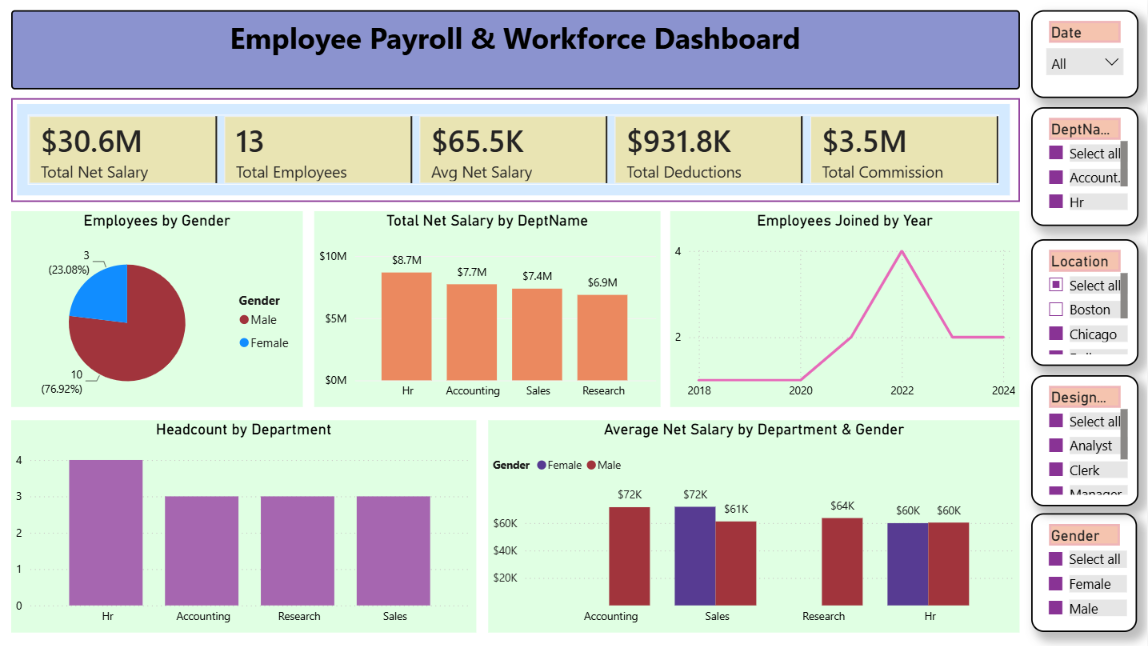

The page's visual inventory and layout, read from the dashboard file:
{"tool":"powerbi","page":{"name":"Workforce Insights","canvas":[1280,720],"ordinal":1},"visuals":[{"type":"cardVisual","fields":{"Data":["Fact Sales.Total Net Salary","Fact Sales.Total Employees","Fact Sales.Avg Net Salary","Fact Sales.Total Deductions","Fact Sales.Total Commission"]},"box":[17.9,109.6,1120.7,115.5],"z":0},{"type":"slicer","fields":{"Values":["Dim Calender.Date"]},"box":[1151.6,11.9,119.1,97.7],"z":1000},{"type":"slicer","fields":{"Values":["Dim Department.Location"]},"box":[1151.6,266.8,119.1,140.5],"z":2000},{"type":"slicer","fields":{"Values":["Dim Department.DeptName"]},"box":[1151.6,120.3,119.1,132.2],"z":3000},{"type":"slicer","fields":{"Values":["Dim Employee.Gender"]},"box":[1151.6,571.6,117.9,132.2],"z":4000},{"type":"slicer","fields":{"Values":["Dim Employee.Designation"]},"box":[1151.6,418,119.1,145.3],"z":5000},{"type":"textbox","box":[17.9,11.9,1120.7,88.1],"z":6000},{"type":"pieChart","title":"Employees  by Gender ","fields":{"Category":["Dim Employee.Gender"],"Y":["Fact Sales.Employee Count by Gender"]},"box":[17.9,235.8,323.9,217.9],"z":7000},{"type":"clusteredColumnChart","fields":{"Y":["Fact Sales.Total Net Salary"],"Category":["Dim Department.DeptName"]},"box":[354.9,235.8,384.7,217.9],"z":8000},{"type":"lineChart","fields":{"Category":["Dim Employee.DateOfJoining.Variation.Date Hierarchy.Year","Dim Employee.DateOfJoining.Variation.Date Hierarchy.Quarter","Dim Employee.DateOfJoining.Variation.Date Hierarchy.Month","Dim Employee.DateOfJoining.Variation.Date Hierarchy.Day"],"Y":["Fact Sales.Employees Joined"]},"box":[750.3,235.8,388.2,217.9],"z":9000},{"type":"clusteredColumnChart","title":"Headcount by Department","fields":{"Category":["Dim Department.DeptName"],"Y":["Fact Sales.Headcount by Dept"]},"box":[17.9,468,516.9,235.8],"z":10000},{"type":"clusteredColumnChart","title":"Average Net Salary by Department & Gender","fields":{"Category":["Dim Department.DeptName"],"Y":["Fact Sales.Avg Net Salary"],"Series":["Dim Employee.Gender"]},"box":[547.8,468,590.7,235.8],"z":11000}]}

Visuals, with their boxes in screenshot pixels (x1, y1, x2, y2), scaled from the page's 1280x720 canvas onto the 1148x646 screenshot:
cardVisual - Fact Sales.Total Net Salary x Fact Sales.Total Employees: box(16, 98, 1021, 202)
slicer - Dim Calender.Date: box(1033, 11, 1140, 98)
slicer - Dim Department.Location: box(1033, 239, 1140, 365)
slicer - Dim Department.DeptName: box(1033, 108, 1140, 227)
slicer - Dim Employee.Gender: box(1033, 513, 1139, 631)
slicer - Dim Employee.Designation: box(1033, 375, 1140, 505)
textbox: box(16, 11, 1021, 90)
"Employees  by Gender " pieChart: box(16, 212, 307, 407)
clusteredColumnChart - Fact Sales.Total Net Salary x Dim Department.DeptName: box(318, 212, 663, 407)
lineChart - Dim Employee.DateOfJoining.Variation.Date Hierarchy.Year x Dim Employee.DateOfJoining.Variation.Date Hierarchy.Quarter: box(673, 212, 1021, 407)
"Headcount by Department" clusteredColumnChart: box(16, 420, 480, 631)
"Average Net Salary by Department & Gender" clusteredColumnChart: box(491, 420, 1021, 631)
